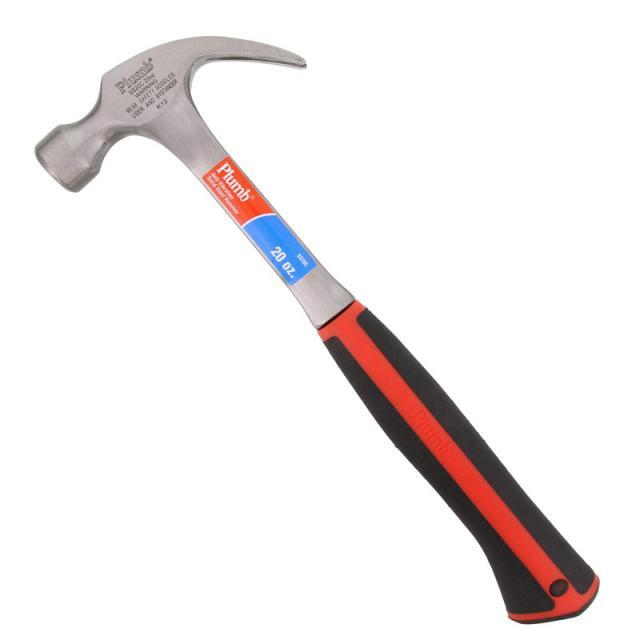hammer: (29, 31, 604, 626)
